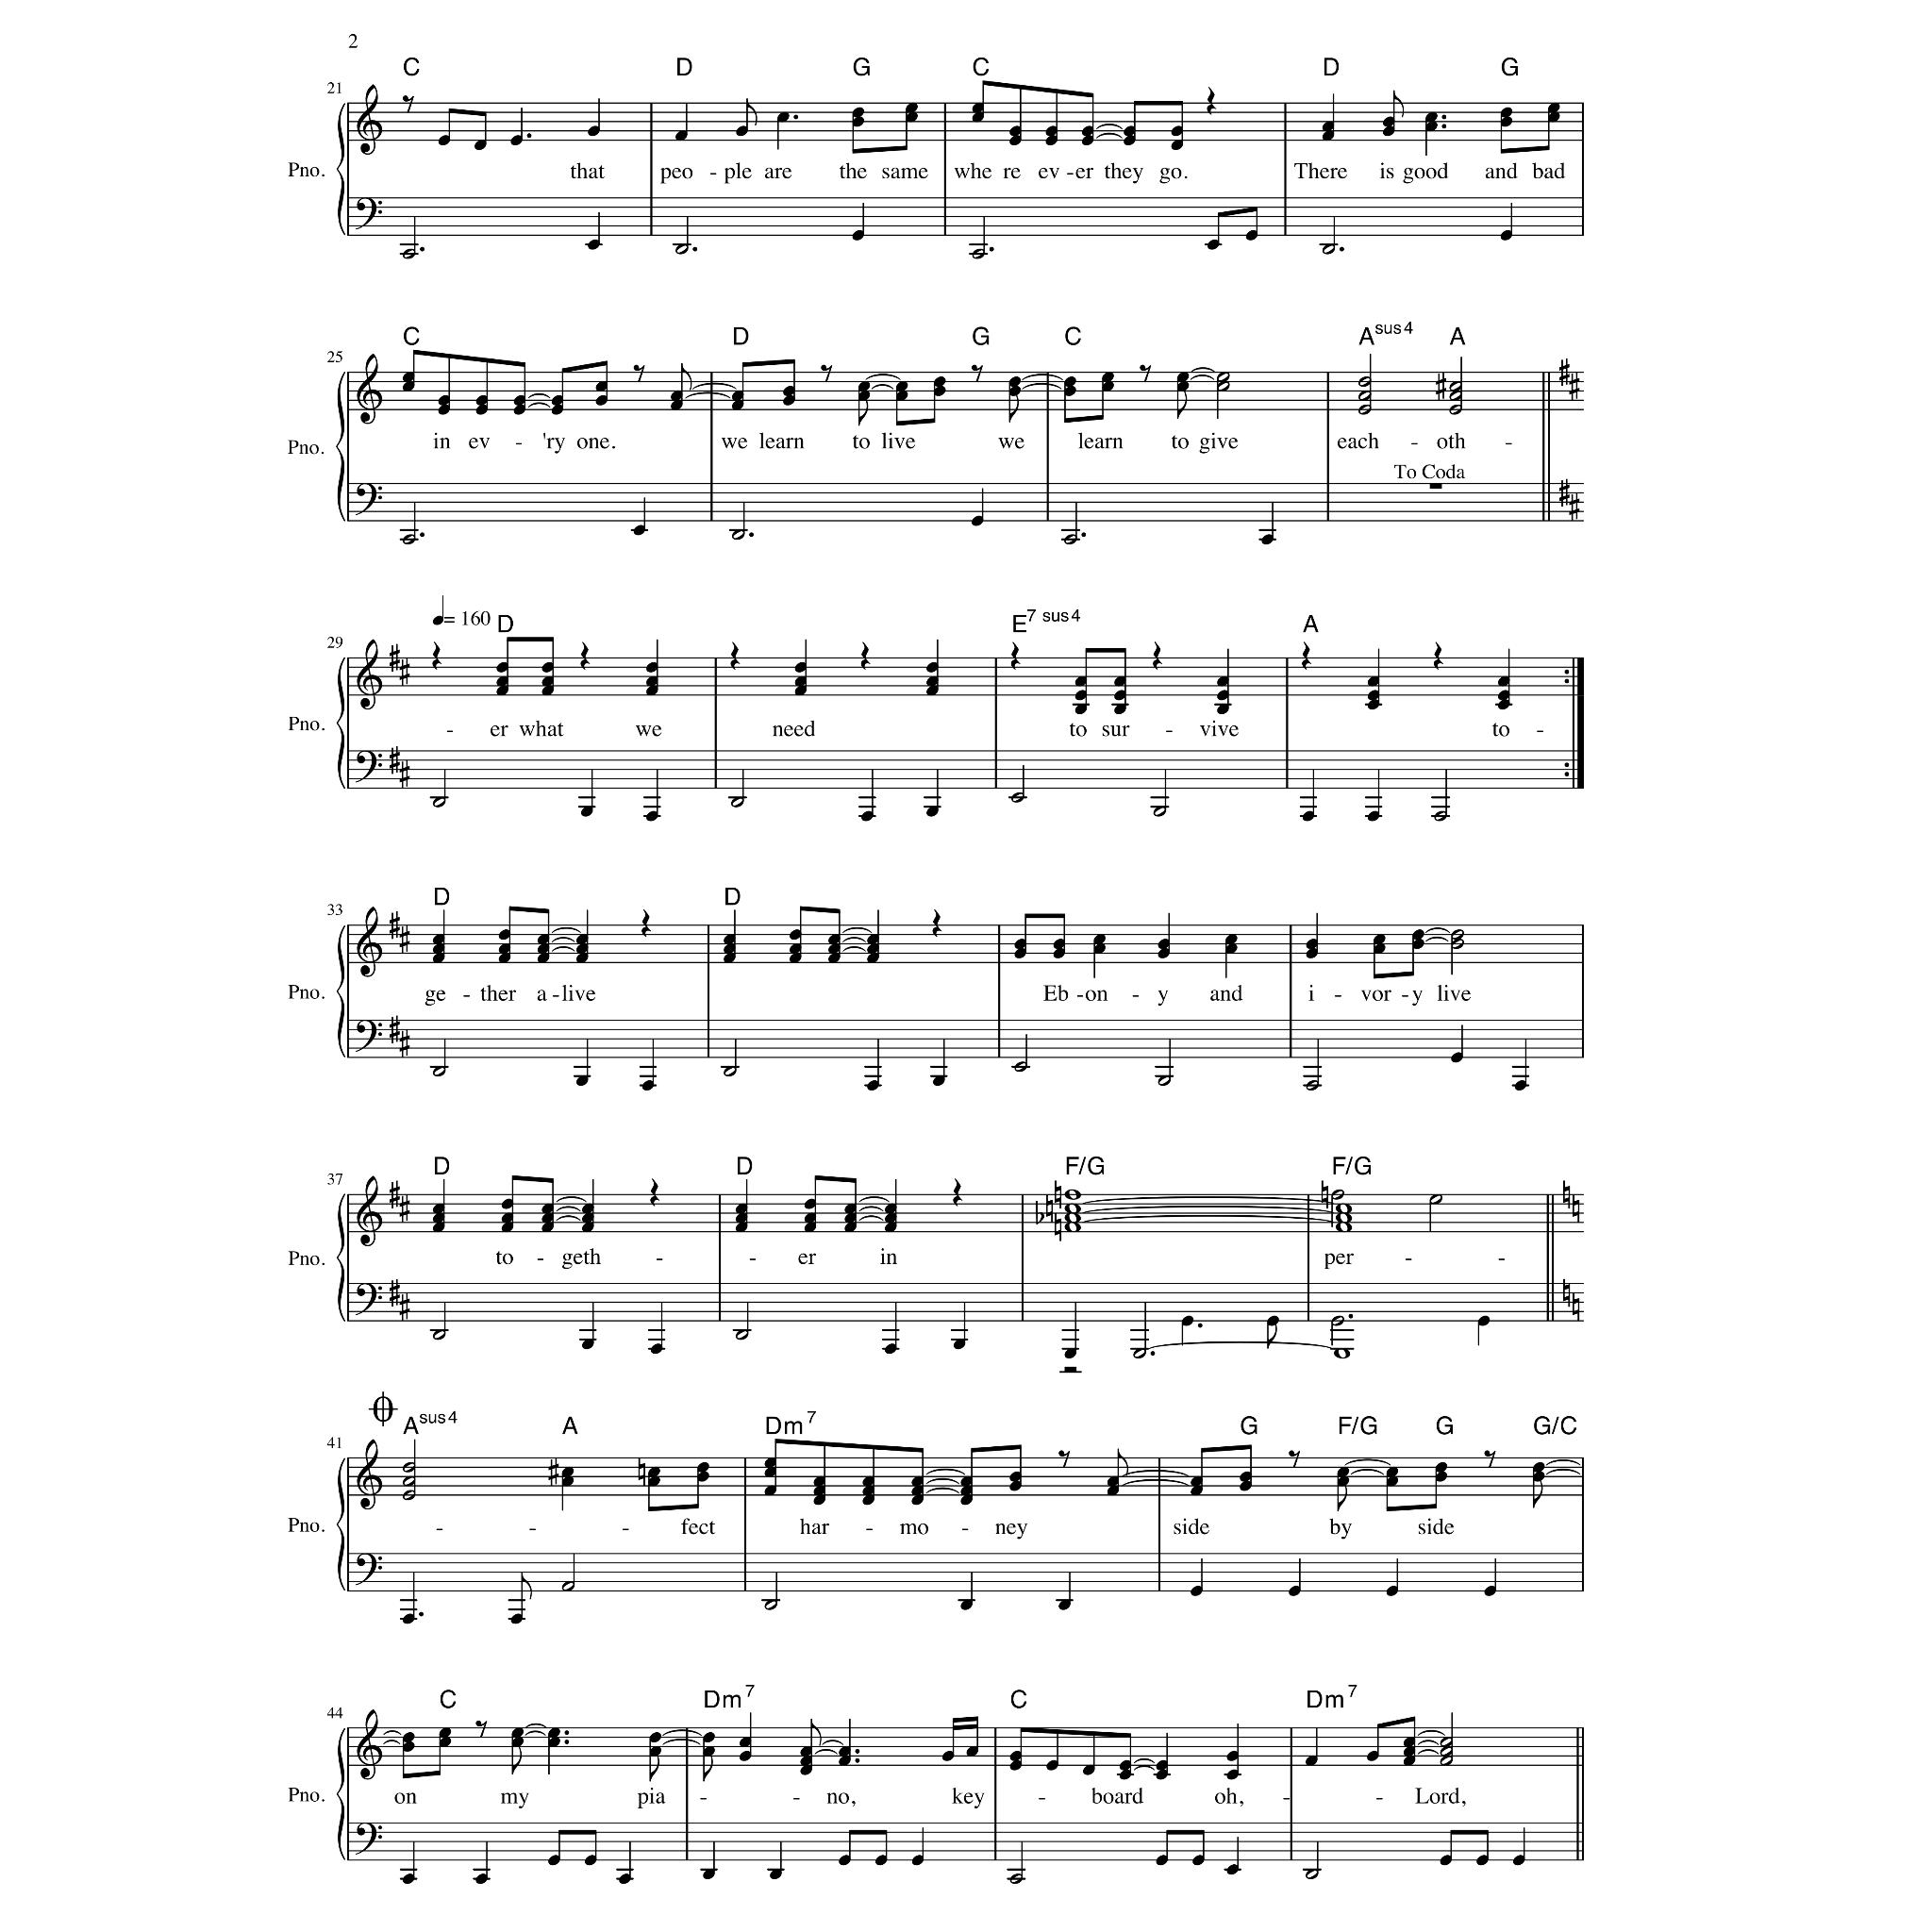brace: (336, 372, 345, 522), (336, 925, 345, 1058), (336, 1458, 345, 1591), (336, 104, 345, 235), (336, 658, 345, 789), (336, 1729, 345, 1859), (336, 1194, 345, 1322)
fClef: (354, 750, 382, 784), (354, 1019, 382, 1053), (354, 1283, 382, 1316), (354, 1553, 382, 1587), (354, 1822, 382, 1856), (354, 198, 382, 230), (354, 483, 382, 515)
flag8thDown: (1177, 391, 1187, 419), (1008, 395, 1019, 423), (858, 398, 869, 426), (1532, 1481, 1543, 1509), (702, 1753, 713, 1782), (1338, 1483, 1346, 1511), (513, 1746, 522, 1775), (649, 1753, 658, 1782), (1267, 1322, 1276, 1348)
flag8thUp: (1392, 90, 1403, 119), (747, 99, 757, 126), (681, 364, 692, 391), (810, 1720, 821, 1746), (1118, 1449, 1127, 1477), (522, 1573, 531, 1599)
gClef: (356, 83, 382, 156), (356, 352, 382, 425), (356, 639, 382, 711), (356, 906, 382, 978), (356, 1175, 382, 1247), (356, 1438, 382, 1511), (356, 1709, 382, 1780)
noteheadBlack: (1207, 239, 1219, 251), (1322, 120, 1334, 133), (1081, 134, 1093, 147), (1008, 134, 1021, 147), (1123, 134, 1136, 147), (1424, 120, 1437, 133), (510, 134, 522, 147), (587, 239, 600, 251), (437, 134, 449, 147), (851, 106, 863, 119), (1177, 380, 1189, 393), (971, 515, 984, 527), (474, 403, 487, 416), (513, 395, 525, 407), (513, 403, 525, 416), (474, 395, 487, 407), (437, 395, 449, 407), (437, 403, 449, 416), (594, 395, 607, 407), (633, 524, 646, 536), (594, 380, 607, 393), (550, 395, 563, 407), (550, 403, 563, 416), (402, 380, 414, 393), (782, 395, 794, 407), (858, 380, 870, 393), (895, 380, 908, 393), (1113, 676, 1125, 688), (1076, 676, 1088, 688), (1497, 676, 1509, 688), (1497, 699, 1509, 711), (1366, 676, 1378, 688), (1366, 699, 1378, 711), (541, 676, 554, 688), (541, 685, 554, 697), (495, 676, 508, 688), (495, 685, 508, 697), (646, 676, 658, 688), (580, 805, 593, 817), (646, 685, 658, 697), (925, 676, 938, 688), (925, 685, 938, 697), (794, 685, 807, 697), (794, 676, 807, 688), (925, 805, 938, 817), (1224, 943, 1237, 955), (1093, 943, 1106, 955), (1412, 929, 1424, 941), (1373, 943, 1385, 955), (538, 943, 550, 955), (497, 929, 510, 941), (497, 943, 510, 955), (432, 943, 444, 955), (828, 943, 840, 955), (867, 943, 879, 955), (789, 929, 801, 941), (789, 943, 801, 955), (724, 943, 736, 955), (1180, 1315, 1192, 1327), (1267, 1315, 1279, 1327), (1477, 1315, 1490, 1327), (582, 1221, 594, 1233), (541, 1212, 554, 1224), (541, 1221, 554, 1233), (582, 1212, 594, 1224), (501, 1212, 513, 1224), (501, 1221, 513, 1233), (651, 1343, 663, 1355), (432, 1212, 444, 1224), (432, 1221, 444, 1233), (844, 1221, 856, 1233), (844, 1212, 856, 1224), (885, 1343, 897, 1355), (885, 1212, 897, 1224), (885, 1221, 897, 1233), (736, 1212, 748, 1224), (736, 1221, 748, 1233), (1288, 1585, 1300, 1598), (1238, 1470, 1251, 1483), (1008, 1470, 1021, 1483), (1191, 1484, 1203, 1497), (1191, 1585, 1203, 1598), (1106, 1484, 1118, 1497), (1385, 1585, 1398, 1598), (1435, 1470, 1447, 1483), (1532, 1470, 1545, 1483), (1483, 1585, 1495, 1598), (697, 1470, 709, 1483), (862, 1484, 874, 1497), (812, 1484, 824, 1497), (911, 1484, 924, 1497), (764, 1484, 777, 1497), (1192, 1854, 1205, 1867), (966, 1744, 978, 1757), (1155, 1854, 1168, 1867), (1155, 1759, 1168, 1771), (1008, 1759, 1021, 1771), (1120, 1759, 1132, 1771), (1046, 1759, 1058, 1771), (1513, 1854, 1525, 1867), (1403, 1744, 1415, 1757), (1476, 1854, 1488, 1867), (1438, 1854, 1451, 1867), (511, 1727, 524, 1739), (649, 1744, 662, 1757), (584, 1854, 596, 1867), (439, 1727, 451, 1739), (402, 1741, 414, 1753), (839, 1854, 851, 1867), (839, 1744, 851, 1757), (800, 1744, 812, 1757), (770, 1868, 782, 1881), (911, 1854, 924, 1867), (702, 1868, 715, 1881), (702, 1744, 715, 1757), (1246, 230, 1258, 241), (1322, 131, 1334, 142), (1046, 134, 1056, 147), (1008, 126, 1021, 136), (1171, 126, 1184, 136), (1171, 140, 1184, 150), (1123, 126, 1136, 136), (1081, 126, 1093, 136), (1382, 117, 1394, 127), (1424, 111, 1437, 122), (1382, 126, 1394, 136), (1548, 103, 1560, 113), (1548, 111, 1560, 122), (1500, 106, 1511, 119), (587, 126, 600, 136), (474, 140, 487, 150), (906, 111, 918, 122), (971, 103, 984, 113), (971, 111, 984, 122), (906, 103, 918, 113), (851, 230, 863, 241), (777, 111, 789, 122), (736, 126, 748, 136), (851, 117, 863, 127), (1102, 380, 1113, 393), (934, 377, 947, 387), (1177, 372, 1189, 382), (1008, 377, 1021, 387), (1008, 386, 1021, 396), (1063, 377, 1076, 387), (1063, 386, 1076, 396), (1261, 534, 1274, 545), (934, 386, 947, 396), (402, 372, 414, 382), (858, 391, 870, 402), (782, 386, 794, 396), (671, 391, 683, 402), (671, 400, 683, 410), (731, 391, 743, 402), (731, 400, 743, 410), (895, 391, 908, 402), (1302, 810, 1315, 821), (1217, 676, 1228, 688), (1076, 690, 1088, 701), (1113, 704, 1125, 715), (1113, 690, 1125, 701), (1076, 704, 1088, 715), (1497, 690, 1509, 701), (1366, 810, 1378, 821), (1366, 690, 1378, 701), (541, 662, 554, 672), (495, 662, 508, 672), (646, 810, 658, 821), (646, 662, 658, 672), (794, 662, 807, 672), (925, 662, 938, 672), (1224, 934, 1237, 945), (1306, 939, 1318, 950), (1306, 948, 1318, 959), (1157, 948, 1169, 959), (1093, 934, 1106, 945), (1157, 939, 1169, 950), (1053, 939, 1065, 950), (1053, 948, 1065, 959), (1373, 934, 1385, 945), (1412, 939, 1424, 950), (1451, 1053, 1463, 1063), (538, 934, 550, 945), (538, 954, 550, 964), (497, 954, 510, 964), (642, 1081, 655, 1092), (577, 943, 587, 955), (432, 954, 444, 964), (432, 934, 444, 945), (867, 1081, 879, 1092), (867, 934, 879, 945), (867, 954, 879, 964), (828, 934, 840, 945), (828, 954, 840, 964), (789, 954, 801, 964), (1014, 939, 1026, 950), (1014, 948, 1026, 959), (932, 1076, 945, 1086), (724, 934, 736, 945), (724, 954, 736, 964), (1063, 1348, 1076, 1359), (541, 1203, 554, 1214), (501, 1200, 513, 1210), (582, 1339, 594, 1350), (582, 1203, 594, 1214), (432, 1203, 444, 1214), (805, 1212, 816, 1224), (805, 1221, 816, 1233), (885, 1203, 897, 1214), (844, 1203, 856, 1214), (736, 1203, 748, 1214), (954, 1339, 966, 1350), (1238, 1481, 1251, 1491), (1058, 1599, 1070, 1610), (1008, 1481, 1021, 1491), (1191, 1476, 1203, 1486), (1106, 1476, 1118, 1486), (1532, 1461, 1545, 1472), (1385, 1467, 1398, 1477), (1385, 1476, 1398, 1486), (1336, 1467, 1348, 1477), (1336, 1476, 1348, 1486), (1435, 1461, 1447, 1472), (561, 1467, 573, 1477), (561, 1476, 573, 1486), (510, 1614, 522, 1624), (648, 1476, 660, 1486), (648, 1467, 660, 1477), (402, 1614, 414, 1624), (862, 1476, 874, 1486), (862, 1495, 874, 1506), (812, 1476, 824, 1486), (812, 1495, 824, 1506), (697, 1461, 709, 1472), (961, 1484, 971, 1497), (911, 1476, 924, 1486), (911, 1495, 924, 1506), (764, 1467, 777, 1477), (764, 1458, 777, 1468), (1155, 1769, 1168, 1780), (1306, 1755, 1318, 1766), (1226, 1865, 1238, 1875), (1226, 1750, 1238, 1760), (1226, 1769, 1238, 1780), (1008, 1750, 1021, 1760), (1120, 1769, 1132, 1780), (1083, 1764, 1095, 1775), (1403, 1737, 1415, 1748), (1403, 1755, 1415, 1766), (1366, 1750, 1378, 1760), (511, 1737, 524, 1748), (548, 1854, 559, 1867), (548, 1727, 559, 1739), (474, 1874, 487, 1884), (649, 1732, 662, 1743), (439, 1737, 451, 1748), (402, 1874, 414, 1884), (402, 1732, 414, 1743), (839, 1755, 851, 1766), (800, 1755, 812, 1766), (800, 1764, 812, 1775), (941, 1750, 954, 1760), (876, 1854, 886, 1867), (740, 1737, 752, 1748), (702, 1732, 715, 1743), (740, 1750, 752, 1760), (1046, 126, 1056, 136), (1500, 230, 1511, 241), (1500, 117, 1511, 127), (676, 131, 686, 142), (1102, 372, 1113, 382), (1217, 690, 1228, 701), (1217, 704, 1228, 715), (862, 810, 872, 821), (1514, 1081, 1525, 1092), (577, 954, 587, 964), (577, 1076, 587, 1086), (577, 934, 587, 945), (805, 1200, 816, 1210), (961, 1599, 971, 1610), (961, 1476, 971, 1486), (961, 1495, 971, 1506), (548, 1737, 559, 1748), (619, 1874, 630, 1884)
noteheadHalf: (402, 248, 416, 260), (971, 248, 985, 260), (1215, 380, 1230, 393), (1357, 403, 1371, 416), (731, 529, 745, 541), (1451, 929, 1465, 941), (1330, 1189, 1345, 1201), (1330, 1315, 1345, 1327), (432, 1329, 446, 1341), (734, 1329, 748, 1341), (561, 1580, 575, 1592), (402, 1461, 416, 1474), (1304, 1868, 1318, 1881), (1449, 380, 1461, 393), (1449, 403, 1461, 416), (1154, 805, 1166, 817), (1440, 1744, 1453, 1757), (1322, 244, 1336, 255), (674, 244, 688, 255), (1215, 372, 1230, 382), (1357, 377, 1371, 387), (1357, 391, 1371, 402), (402, 534, 416, 545), (1010, 793, 1024, 803), (1433, 810, 1447, 821), (432, 796, 446, 807), (1157, 1076, 1171, 1086), (1306, 1081, 1320, 1092), (1451, 939, 1465, 950), (1014, 1062, 1028, 1072), (432, 1067, 446, 1077), (722, 1067, 736, 1077), (1132, 1348, 1146, 1359), (1430, 1194, 1444, 1205), (402, 1476, 416, 1486), (402, 1490, 416, 1500), (1063, 534, 1076, 545), (1449, 391, 1461, 402), (731, 796, 743, 807), (764, 1599, 777, 1610), (1010, 1874, 1023, 1884), (1440, 1737, 1453, 1748), (1440, 1755, 1453, 1766)
noteheadWhole: (1334, 1212, 1352, 1224), (1334, 1221, 1352, 1233), (1063, 1212, 1081, 1224), (1063, 1221, 1081, 1233), (1332, 1348, 1350, 1359), (1334, 1203, 1352, 1214), (1063, 1189, 1081, 1200), (1063, 1203, 1081, 1214)
rest8th: (402, 96, 414, 113), (1139, 364, 1152, 382), (971, 364, 984, 382), (821, 364, 833, 382), (1288, 1451, 1300, 1468), (1058, 1451, 1070, 1468), (633, 364, 644, 382), (1484, 1451, 1495, 1468), (476, 1720, 487, 1737)
restHalf: (1060, 1366, 1083, 1373)
restQuarter: (1152, 640, 1162, 671), (1010, 640, 1021, 671), (1433, 640, 1444, 671), (580, 640, 591, 671), (432, 640, 442, 671), (860, 640, 870, 671), (729, 640, 740, 671), (1207, 87, 1217, 115), (640, 909, 651, 938), (649, 1178, 660, 1207), (952, 1178, 962, 1207), (1302, 640, 1311, 671), (932, 909, 941, 938)
restWhole: (1430, 483, 1442, 488)
